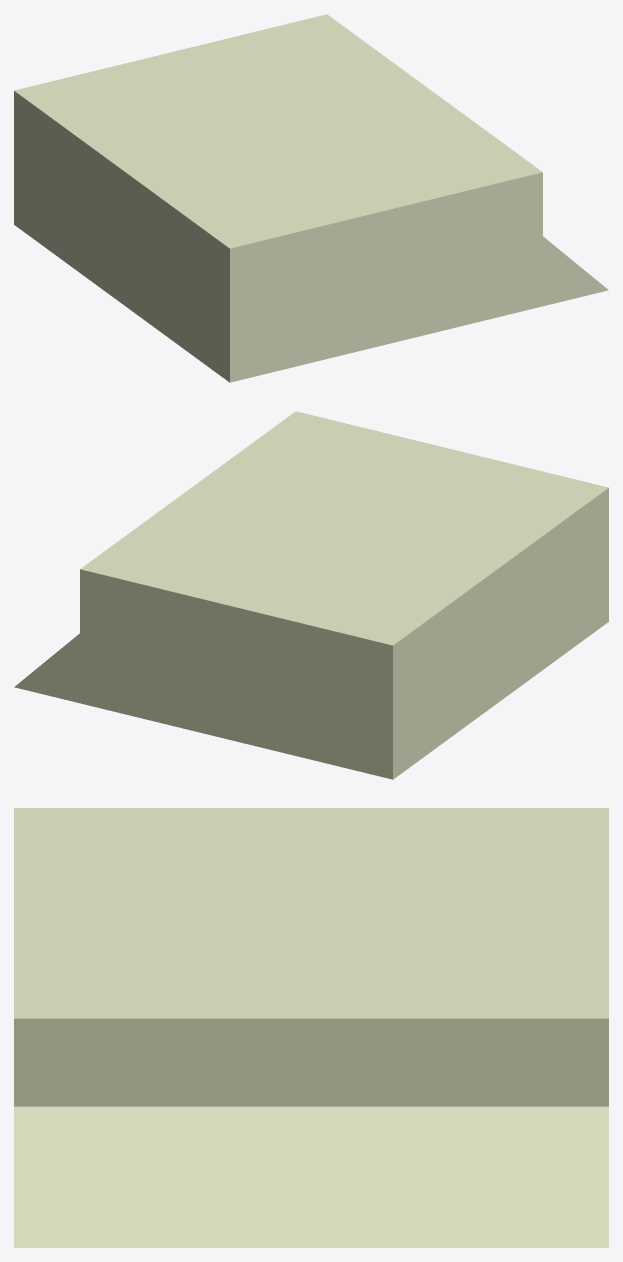
Rendered from Hood-Fan.fbx.
3 renders of one model, top to bottom at view 1: azimuth 30°, elevation 25°; view 2: azimuth 150°, elevation 25°; view 3: azimuth 270°, elevation 25°, orthographic. The views are drawn at different scales.
Visible parts, largest first — view 1: HoodFan; view 2: HoodFan; view 3: HoodFan.
Part boxes in pixels (x1,y1,x2,y2): HoodFan: (14,14,608,382); HoodFan: (14,411,608,779); HoodFan: (14,808,608,1247).
Bounding box in the file's own units: 86.49 × 29.24 × 85.31.
